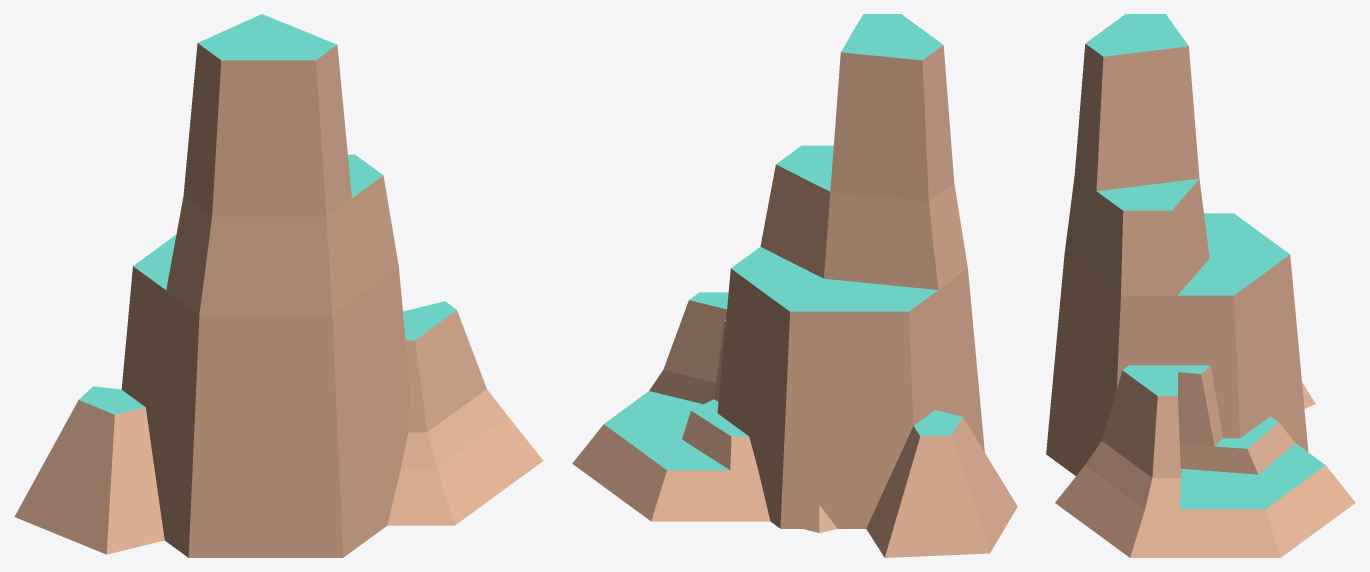
Rendered from props_rocks.glb.
3 views of the same model, side by side, from view 1: azimuth 30°, elevation 25°; view 2: azimuth 150°, elevation 25°; view 3: azimuth 270°, elevation 25° (orthographic). The views are drawn at different scales.
Parts seen in each view (by area): view 1: rock_tallA; view 2: rock_tallA; view 3: rock_tallA.
Part boxes in pixels (x1,y1,x2,y2): rock_tallA: [14, 14, 543, 557]; rock_tallA: [572, 14, 1017, 557]; rock_tallA: [1046, 14, 1355, 557].
Size of the model in its own units: 0.9831 by 0.9959 by 0.6832.
